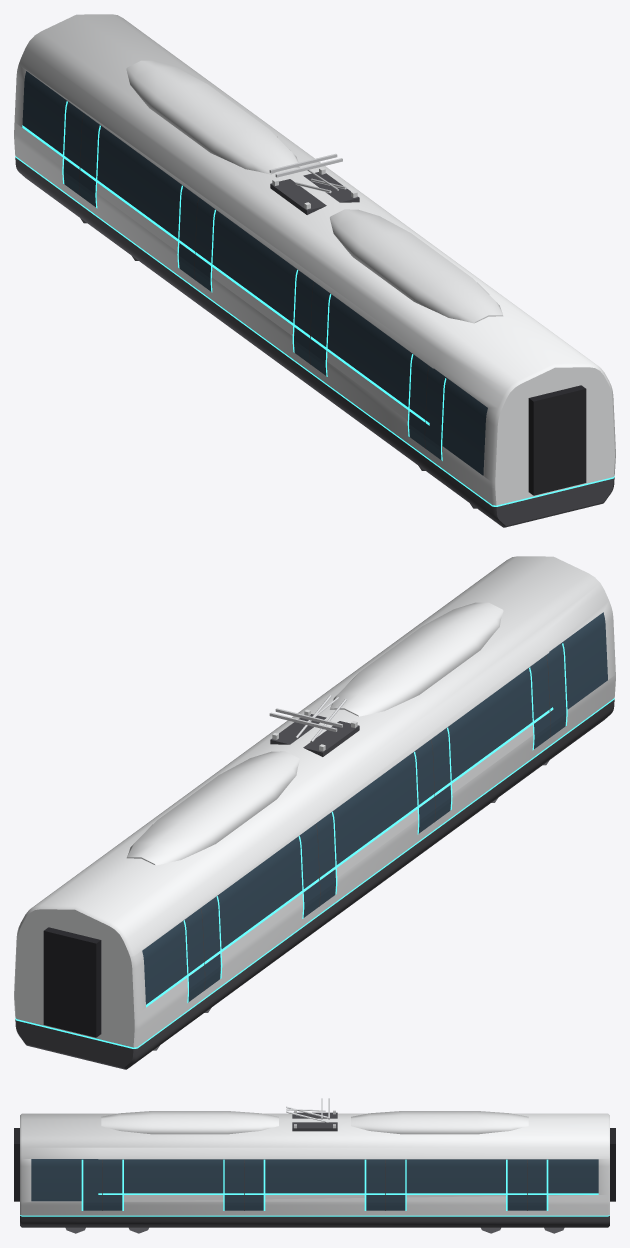
File: middle_1.fbx
3 views of the same model, one above another, from view 1: azimuth 30°, elevation 25°; view 2: azimuth 150°, elevation 25°; view 3: azimuth 270°, elevation 25° (orthographic). The views are drawn at different scales.
Visible parts, largest first — view 1: 20_middle_1; view 2: 20_middle_1; view 3: 20_middle_1.
Part boxes in pixels (x1,y1,x2,y2): 20_middle_1: (14, 14, 615, 527); 20_middle_1: (14, 556, 615, 1069); 20_middle_1: (14, 1098, 615, 1233).
Size of the model in its own units: 2.96 by 4.2 by 20.
